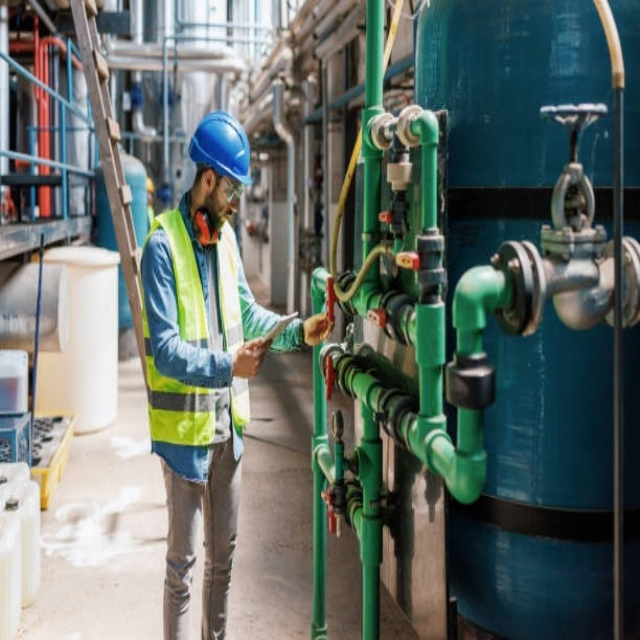Gafas: (219, 169, 244, 205)
Sin_guantes: (231, 338, 267, 379), (303, 310, 332, 347)
Sin_mascara: (212, 210, 232, 232)
